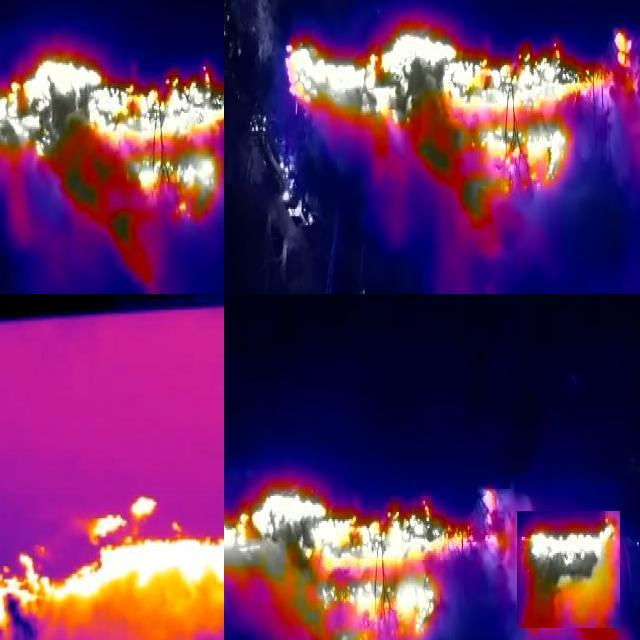fire: (287, 27, 633, 228), (1, 49, 225, 253), (225, 486, 507, 640), (1, 495, 225, 640), (518, 512, 621, 629)
